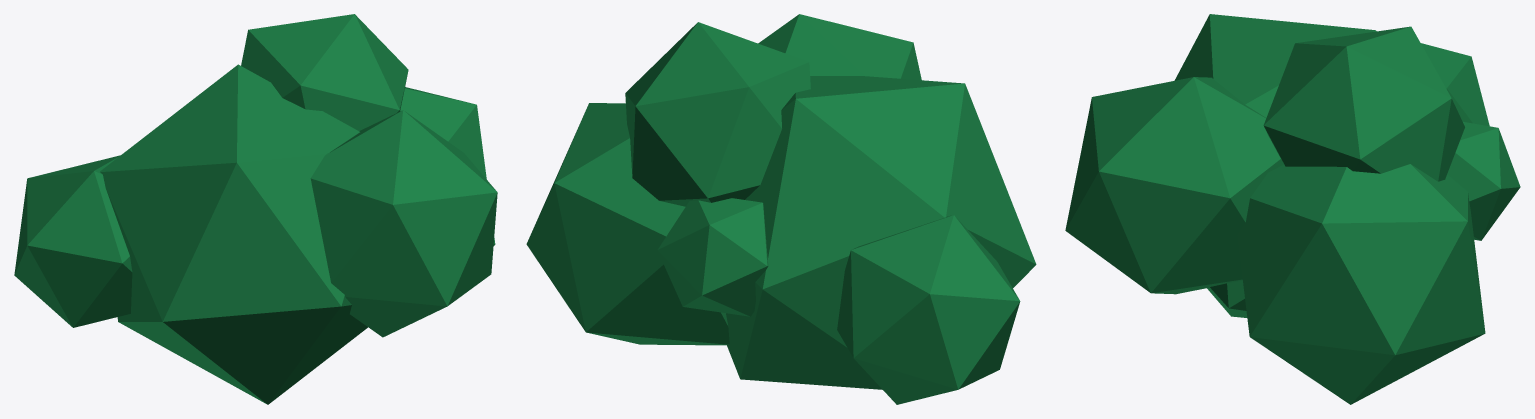
File: spring_bush_3.fbx
3 renders of one model, left to right at view 1: azimuth 30°, elevation 25°; view 2: azimuth 150°, elevation 25°; view 3: azimuth 270°, elevation 25°, orthographic. The views are drawn at different scales.
Parts seen in each view (by area): view 1: BUSH.001, BUSH.006, BUSH.005, BUSH.008, BUSH.007; view 2: BUSH.001, BUSH.007, BUSH.005, BUSH.008, BUSH.009, BUSH.006; view 3: BUSH.007, BUSH.006, BUSH.008, BUSH.001, BUSH.009, BUSH.005.
Part boxes in pixels (x1=…): BUSH.001: x1=100, y1=64, x2=367, y2=404; BUSH.006: x1=310, y1=110, x2=497, y2=337; BUSH.005: x1=14, y1=155, x2=132, y2=327; BUSH.008: x1=241, y1=14, x2=408, y2=130; BUSH.007: x1=400, y1=87, x2=495, y2=245; BUSH.001: x1=726, y1=76, x2=1036, y2=389; BUSH.007: x1=526, y1=103, x2=729, y2=345; BUSH.005: x1=837, y1=215, x2=1020, y2=404; BUSH.008: x1=625, y1=22, x2=810, y2=206; BUSH.009: x1=657, y1=198, x2=768, y2=316; BUSH.006: x1=758, y1=14, x2=921, y2=80; BUSH.007: x1=1237, y1=164, x2=1485, y2=404; BUSH.006: x1=1065, y1=77, x2=1283, y2=294; BUSH.008: x1=1263, y1=26, x2=1464, y2=181; BUSH.001: x1=1174, y1=14, x2=1376, y2=317; BUSH.009: x1=1447, y1=121, x2=1520, y2=240; BUSH.005: x1=1421, y1=43, x2=1489, y2=126.
Size of the model in its own units: 7.03 by 4.79 by 5.74.
